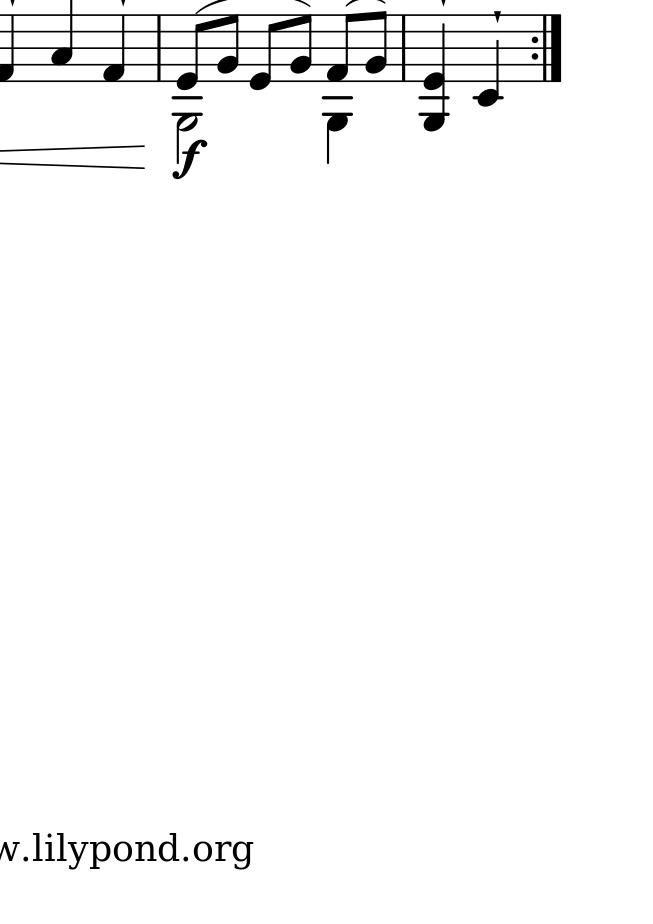4_-2: (474, 13, 502, 111)
4_-5_0: (420, 14, 449, 132)
4_1: (101, 13, 128, 83)
8_0: (246, 12, 282, 90), (176, 13, 206, 91)
8_1: (325, 10, 358, 82)
8_2: (286, 13, 314, 86), (366, 9, 390, 83), (216, 13, 241, 83)
RightRepeatSign: (531, 13, 565, 82)
Single_barline: (152, 16, 167, 80), (397, 15, 410, 81)
Staccatissimo: (491, 7, 503, 23)
f: (175, 138, 207, 180)
